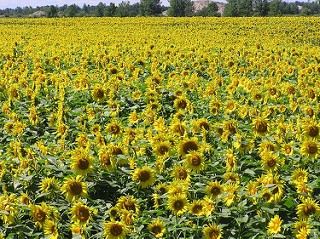flower: (60, 173, 89, 203), (129, 164, 158, 189), (293, 197, 320, 221), (70, 153, 96, 176), (166, 193, 190, 217), (103, 220, 131, 239), (184, 149, 206, 173), (260, 152, 280, 173)
